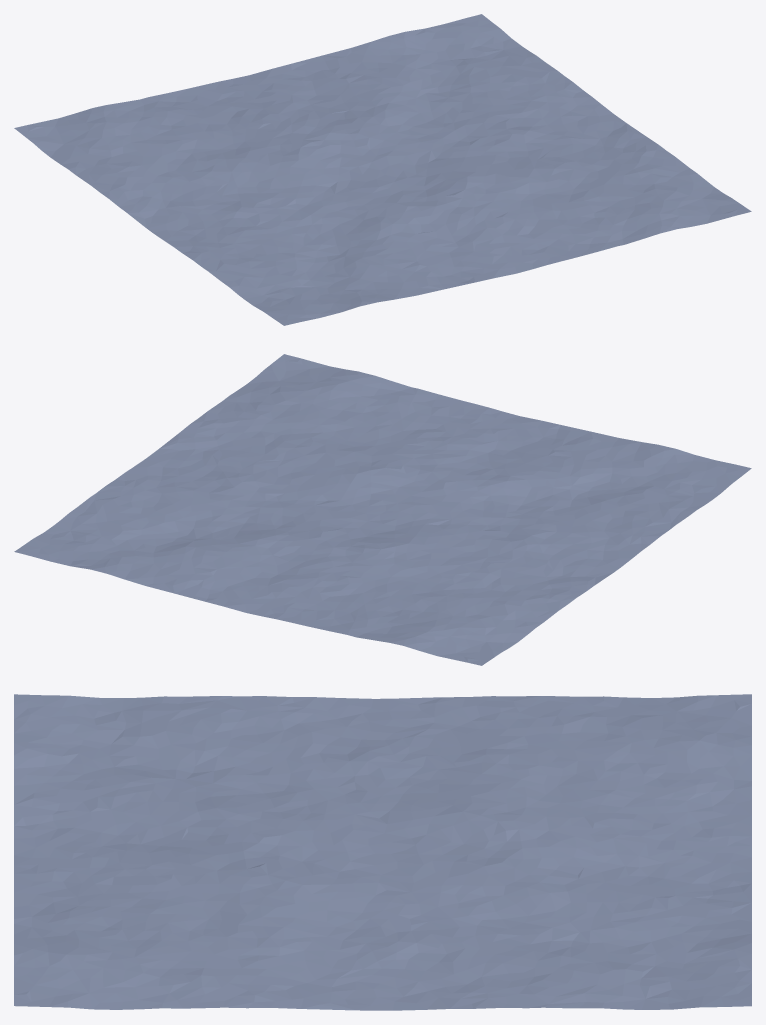
The model's file is waterPlane3.fbx.
The picture shows the model from 3 angles, top to bottom: view 1: azimuth 30°, elevation 25°; view 2: azimuth 150°, elevation 25°; view 3: azimuth 270°, elevation 25°; orthographic projection. The views are drawn at different scales.
Parts seen in each view (by area): view 1: waterPlane3; view 2: waterPlane3; view 3: waterPlane3.
Boxes of the visible parts, x1,y1,x2,y2 form: waterPlane3: (14, 14, 751, 325); waterPlane3: (14, 354, 751, 665); waterPlane3: (14, 694, 751, 1010).
Bounding box in the file's own units: 5000 × 70.56 × 5000.
